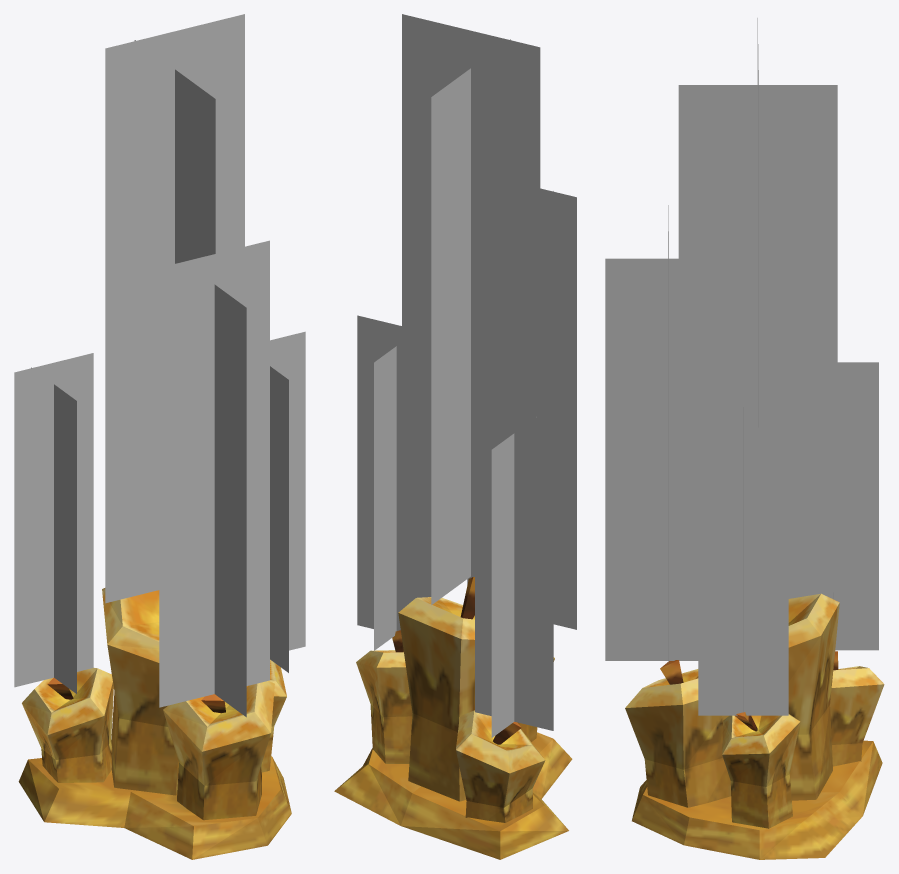
File: crypt_candles01.fbx
3 views of the same model, side by side, from view 1: azimuth 30°, elevation 25°; view 2: azimuth 150°, elevation 25°; view 3: azimuth 270°, elevation 25° (orthographic).
Parts seen in each view (by area): view 1: obj1.009; view 2: obj1.009; view 3: obj1.009.
Boxes of the visible parts, x1=… form: obj1.009: x1=14, y1=14, x2=305, y2=859; obj1.009: x1=334, y1=14, x2=576, y2=859; obj1.009: x1=605, y1=18, x2=884, y2=859.
Size of the model in its own units: 0.5146 by 1.56 by 0.5164.
